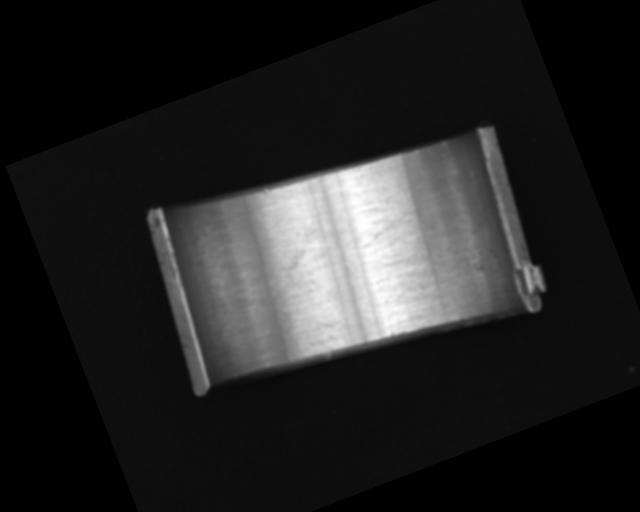blot: (259, 246, 320, 303)
bruise: (260, 187, 271, 197)
nick: (440, 138, 450, 153)
